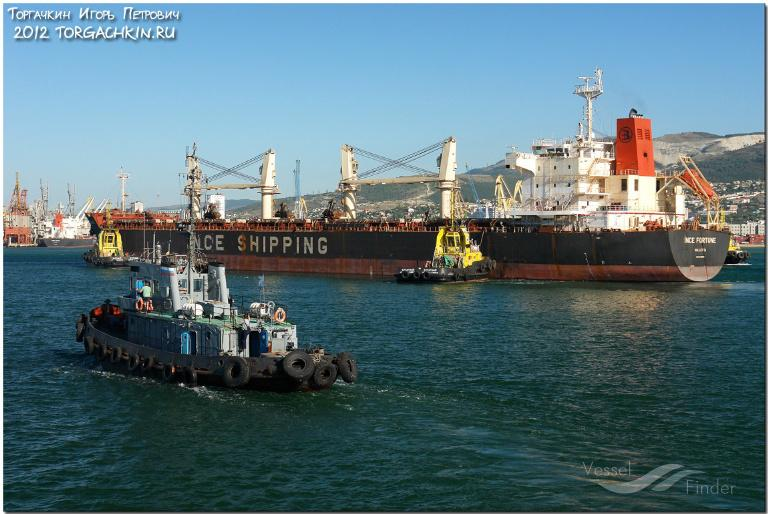OCR: (188, 230, 336, 260)
